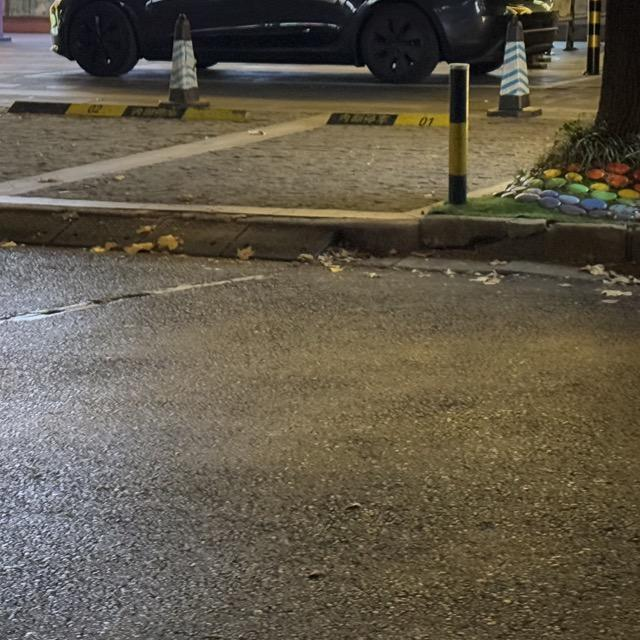curb: (0, 198, 417, 260), (418, 214, 639, 266)
